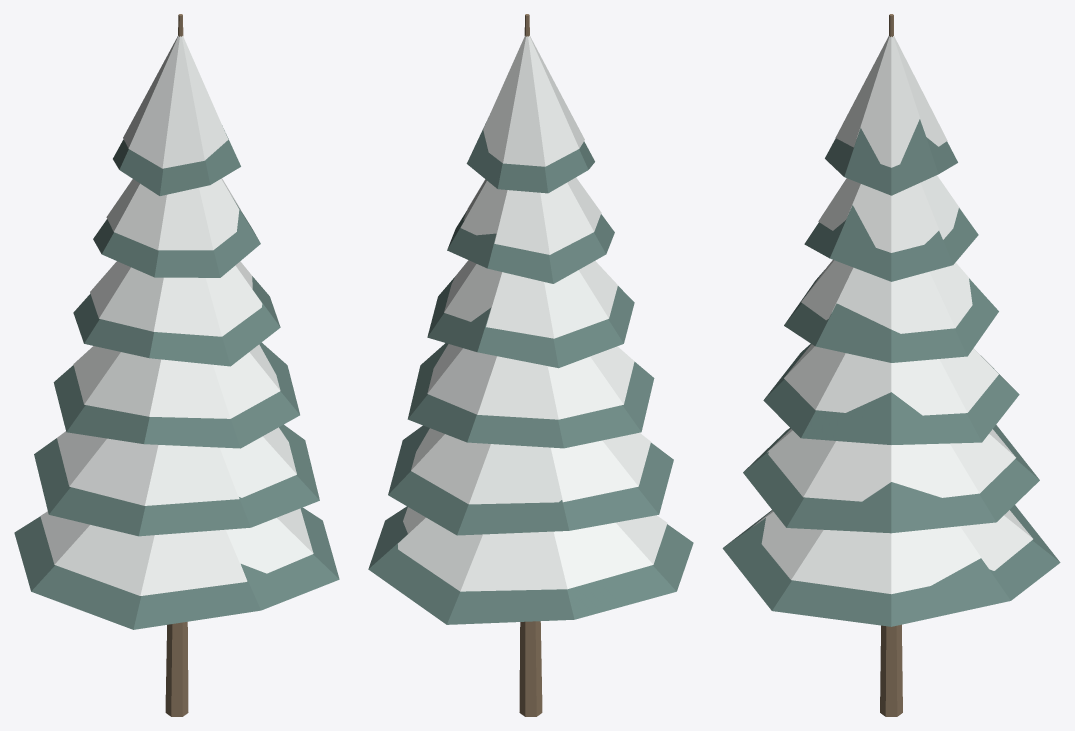
The picture shows the model from 3 angles, left to right: view 1: azimuth 30°, elevation 25°; view 2: azimuth 150°, elevation 25°; view 3: azimuth 270°, elevation 25°; orthographic projection.
Size of the model in its own units: 9.37 by 21.4 by 9.37.
